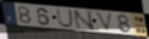6: (36, 7, 51, 27)
8: (17, 6, 33, 25), (117, 14, 132, 34)
N: (72, 10, 97, 32)
U: (55, 8, 74, 29)
V: (93, 11, 115, 34)
